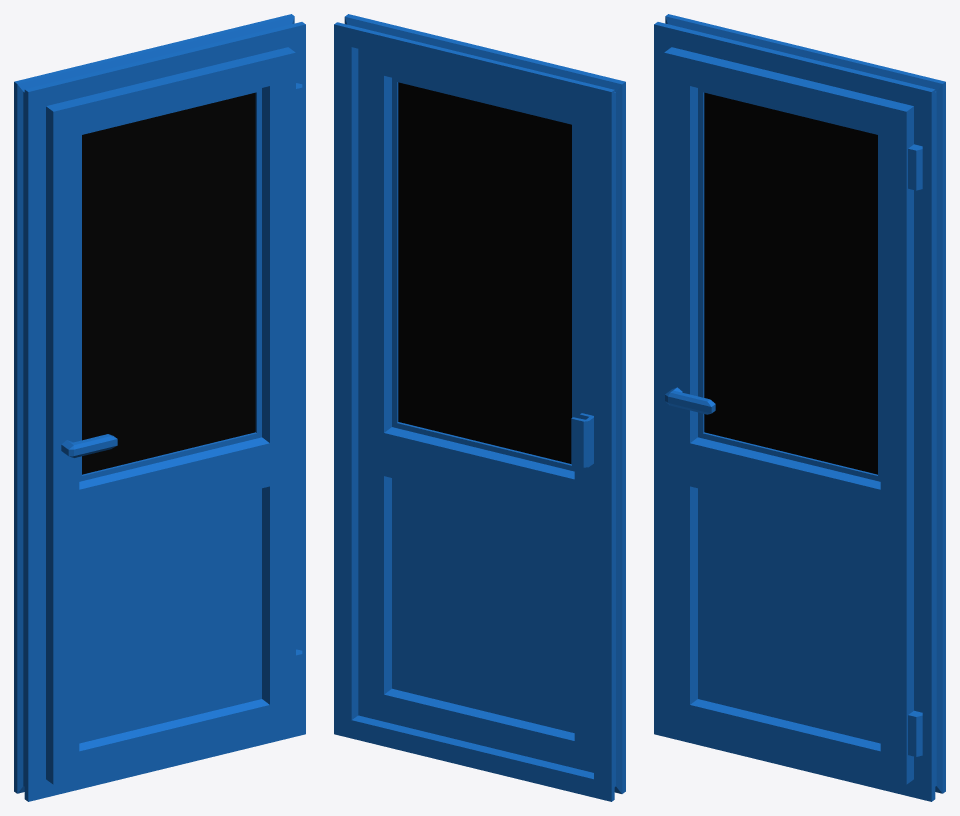
The model's file is space_plastic_door_1.fbx.
The picture shows the model from 3 angles, left to right: view 1: azimuth 30°, elevation 25°; view 2: azimuth 150°, elevation 25°; view 3: azimuth 330°, elevation 25°; orthographic projection.
Parts seen in each view (by area): view 1: Cube_82; view 2: Cube_82; view 3: Cube_82.
Part boxes in pixels (x1,y1,x2,y2): Cube_82: (14, 14, 305, 801); Cube_82: (334, 14, 625, 801); Cube_82: (654, 14, 945, 801).
Bounding box in the file's own units: 90 × 220 × 17.98.
